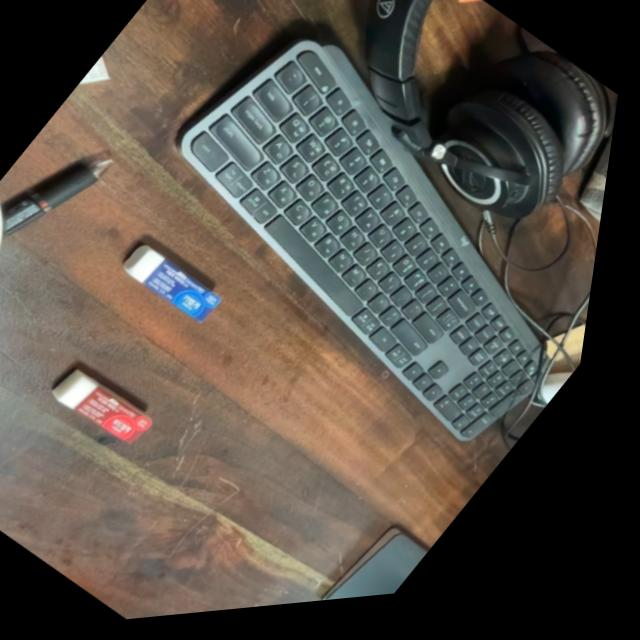blue: (105, 223, 258, 354)
red: (32, 341, 188, 474)
